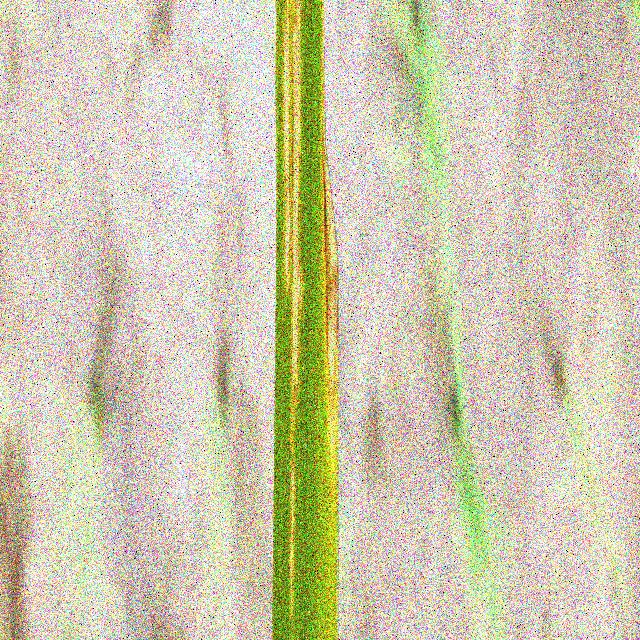BLS: (290, 0, 303, 618), (283, 0, 290, 293)
